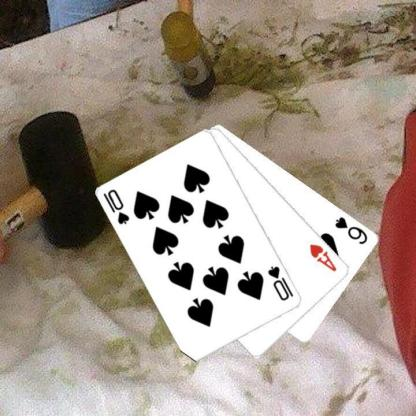10S: (101, 187, 131, 226), (265, 264, 295, 302)
6S: (333, 214, 369, 245)
AH: (306, 241, 338, 273)
